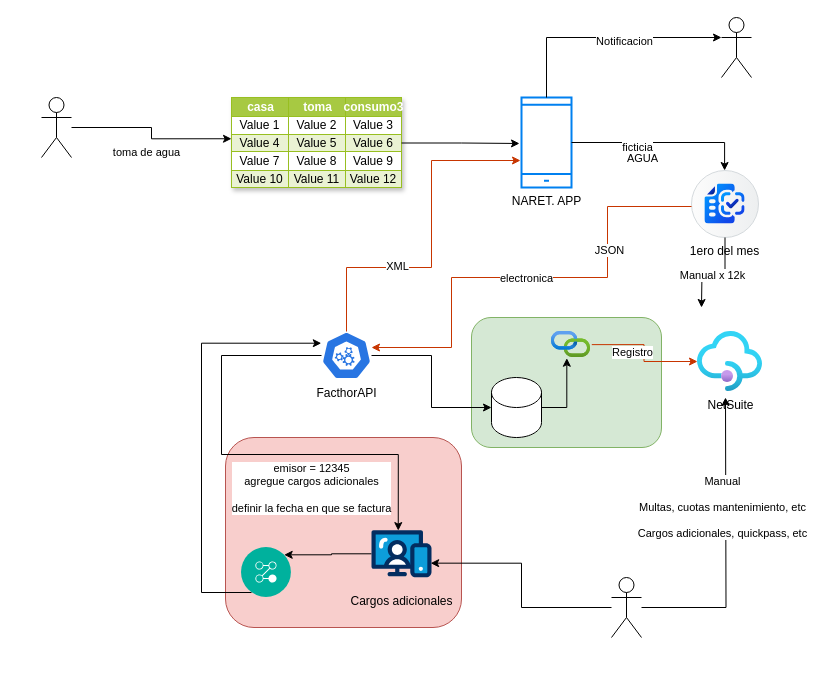
The diagram is 824 pixels wide and 676 high, and some of its shapes have lost their labels. The shapes that lost their labels are listed below. From the top down, each one's centre as x and y in pixels, then its label:
At [736,47]: "Condomino".
At [56,127]: "Administracion".
At [626,607]: "Agentes Naret".
